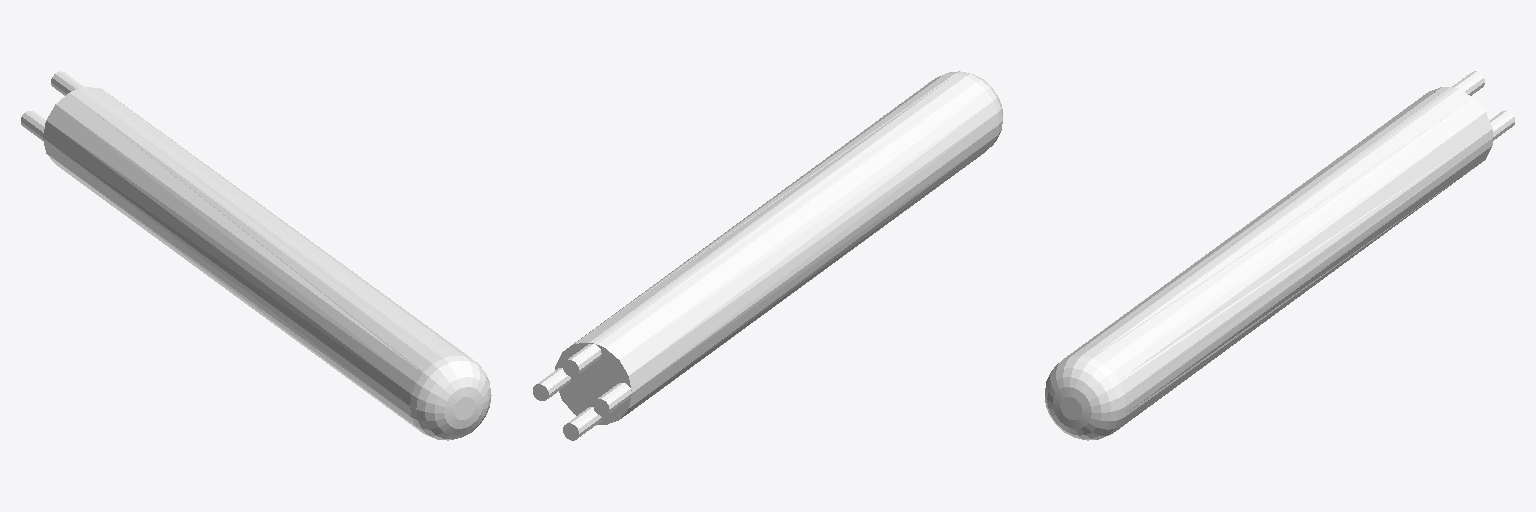
URDF robot description (jie_xi_wen_ding):
<robot
  name="jie_xi_wen_ding">
  <link
    name="jie_xi_wen_ding">
    <inertial>
      <origin
        xyz="-4.5499E-06 -5.8688 -5.20289999964065E-06"
        rpy="0 0 0" />
      <mass
        value="18472" />
      <inertia
        ixx="224741.145240377"
        ixy="-0.522676181763753"
        ixz="-4.37290755302825E-07"
        iyy="4513.79926607722"
        iyz="0.597687452356971"
        izz="224741.145218536" />
    </inertial>
    <visual>
      <origin
        xyz="0 0 0"
        rpy="1.5707963267949 0 0" />
      <geometry>
        <mesh
          filename="package://jie_xi_wen_ding/meshes/jie_xi_wen_ding.STL" />
      </geometry>
      <material
        name="">
        <color
          rgba="1 1 1 1" />
      </material>
    </visual>
    <collision>
      <origin
        xyz="0 0 0"
        rpy="1.5707963267949 0 0" />
      <geometry>
        <mesh
          filename="package://jie_xi_wen_ding/meshes/jie_xi_wen_ding.STL" />
      </geometry>
    </collision>
  </link>
</robot>

--- Facts derived from the render (not from the file) ---
Views: 3 orthographic renders of the robot side by side, from view 1: azimuth 30°, elevation 25°; view 2: azimuth 150°, elevation 25°; view 3: azimuth 330°, elevation 25°.
Robot: jie_xi_wen_ding — 1 links, 0 joints (none); root link jie_xi_wen_ding; default pose: all joints at 0.
Visible links, largest first — view 1: jie_xi_wen_ding; view 2: jie_xi_wen_ding; view 3: jie_xi_wen_ding.
Link boxes in pixels (x1,y1,x2,y2): jie_xi_wen_ding: [21, 71, 491, 440]; jie_xi_wen_ding: [533, 71, 1002, 440]; jie_xi_wen_ding: [1045, 71, 1514, 440].
Bounding box of the posed robot: 1.4 × 12.7 × 1.4 m (x, y, z).
1 mesh visuals loaded from 1 distinct referenced files (1 binary STL).
